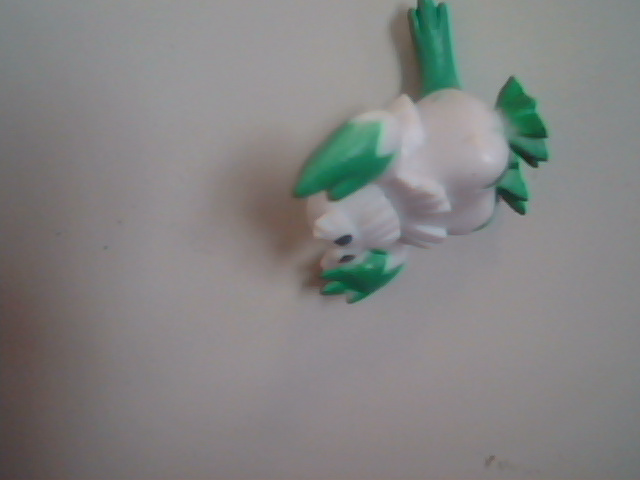abomasnow: (218, 5, 587, 343)
